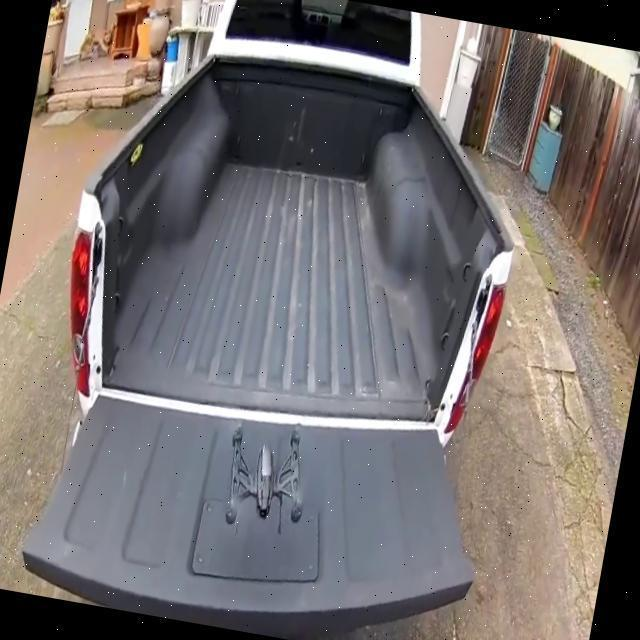Drons: (192, 409, 338, 546)
